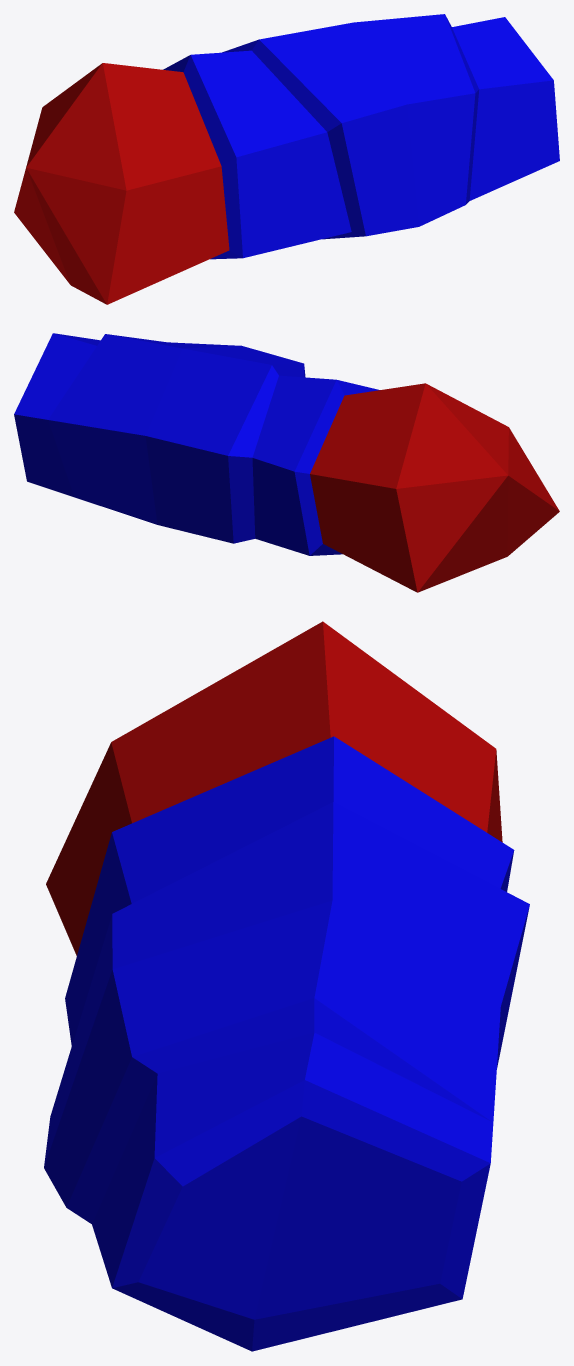
File: Chr_ArmUpperLeft_Male_Static_11.fbx
3 renders of one model, top to bottom at view 1: azimuth 30°, elevation 25°; view 2: azimuth 150°, elevation 25°; view 3: azimuth 270°, elevation 25°, orthographic. The views are drawn at different scales.
Visible parts, largest first — view 1: Chr_ArmUpperLeft_Male_11; view 2: Chr_ArmUpperLeft_Male_11; view 3: Chr_ArmUpperLeft_Male_11.
Part boxes in pixels (x1=…): Chr_ArmUpperLeft_Male_11: x1=14, y1=14, x2=559, y2=304; Chr_ArmUpperLeft_Male_11: x1=14, y1=333, x2=559, y2=592; Chr_ArmUpperLeft_Male_11: x1=44, y1=621, x2=529, y2=1351.
Size of the model in its own units: 33.45 by 13.63 by 15.04.
